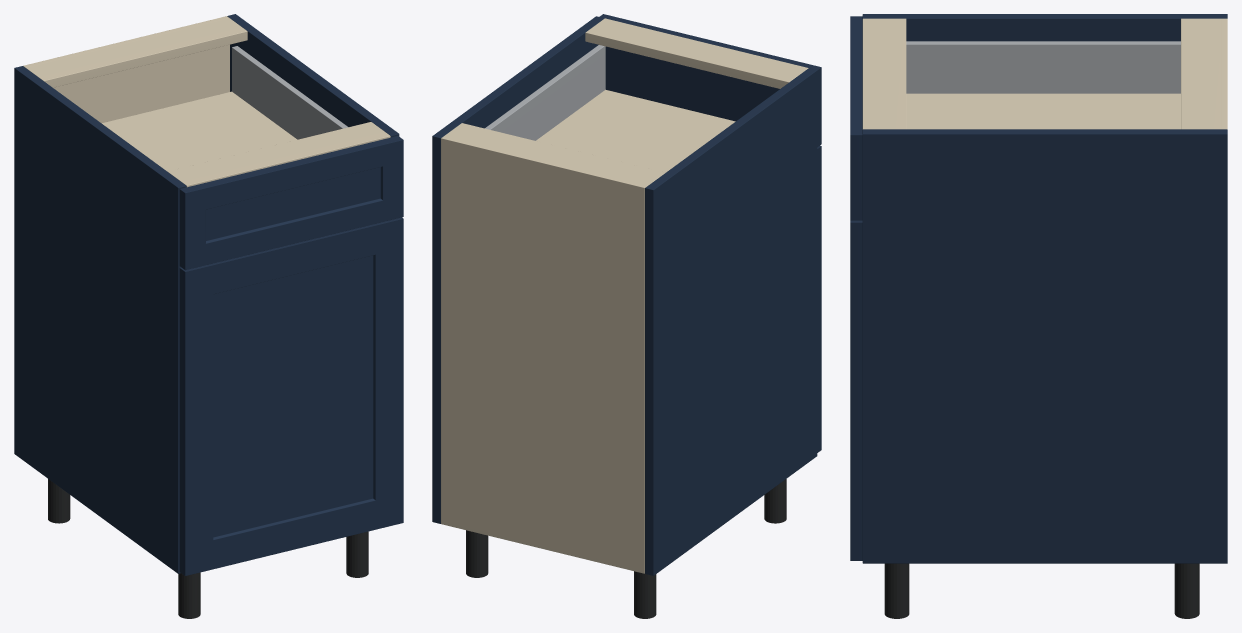
File: oppein-ply-bss-btc18.glb
3 renders of one model, left to right at view 1: azimuth 30°, elevation 25°; view 2: azimuth 150°, elevation 25°; view 3: azimuth 270°, elevation 25°, orthographic. The views are drawn at different scales.
Parts seen in each view (by area): view 1: Door, Cabinet side, Drawer front, Drawer floor, Cabinet back, Top support rail, Drawer side.001, Top support rail.001, Cabinet side.001, Adjustable foot.001, Adjustable foot.003, Adjustable foot; view 2: Cabinet back, Cabinet side, Drawer floor, Drawer front, Cabinet side.001, Top support rail.001, Drawer side.001, Top support rail, Door, Adjustable foot, Adjustable foot.002, Adjustable foot.001; view 3: Cabinet side.001, Drawer side, Drawer floor, Cabinet side, Top support rail.001, Top support rail, Door, Drawer front, Adjustable foot.002, Adjustable foot.003, Cabinet back.
Boxes of the visible parts, bbox=[...] form: Door: bbox=[179, 217, 403, 575]; Cabinet side: bbox=[14, 66, 186, 573]; Drawer front: bbox=[179, 136, 403, 270]; Drawer floor: bbox=[102, 91, 297, 171]; Cabinet back: bbox=[23, 16, 229, 123]; Top support rail: bbox=[25, 18, 247, 87]; Drawer side.001: bbox=[232, 46, 348, 139]; Top support rail.001: bbox=[167, 122, 390, 187]; Cabinet side.001: bbox=[227, 14, 399, 137]; Adjustable foot.001: bbox=[178, 572, 200, 618]; Adjustable foot.003: bbox=[346, 531, 368, 577]; Adjustable foot: bbox=[48, 479, 70, 523]; Cabinet back: bbox=[441, 136, 647, 573]; Cabinet side: bbox=[645, 68, 817, 575]; Drawer floor: bbox=[536, 89, 735, 172]; Drawer front: bbox=[599, 14, 821, 146]; Cabinet side.001: bbox=[432, 16, 604, 523]; Top support rail.001: bbox=[585, 18, 808, 88]; Drawer side.001: bbox=[485, 45, 605, 140]; Top support rail: bbox=[444, 123, 665, 185]; Door: bbox=[817, 145, 821, 452]; Adjustable foot: bbox=[634, 571, 656, 618]; Adjustable foot.002: bbox=[466, 530, 488, 577]; Adjustable foot.001: bbox=[764, 479, 786, 523]; Cabinet side.001: bbox=[862, 129, 1227, 563]; Drawer side: bbox=[906, 41, 1180, 93]; Drawer floor: bbox=[906, 93, 1180, 129]; Cabinet side: bbox=[862, 14, 1227, 41]; Top support rail.001: bbox=[862, 18, 906, 129]; Top support rail: bbox=[1181, 18, 1220, 129]; Door: bbox=[850, 220, 862, 560]; Drawer front: bbox=[850, 16, 862, 220]; Adjustable foot.002: bbox=[1174, 563, 1199, 618]; Adjustable foot.003: bbox=[884, 563, 909, 618]; Cabinet back: bbox=[1220, 18, 1227, 129].
Size of the model in its own units: 0.4572 by 0.8763 by 0.6064.
